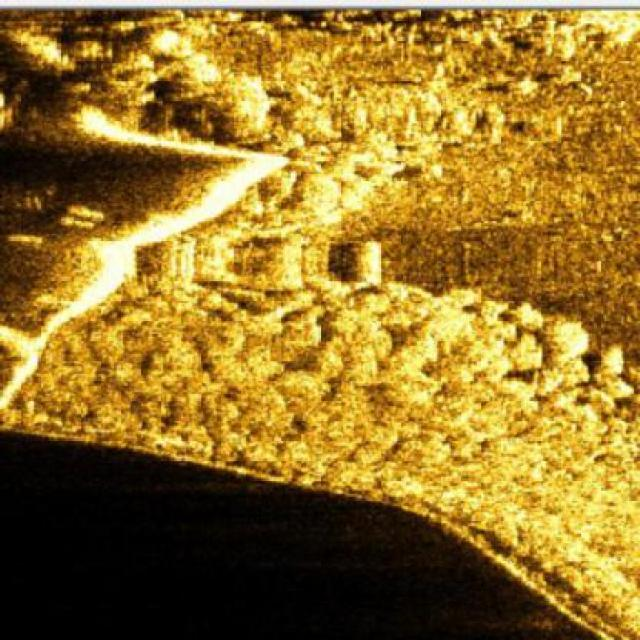bedrock group: (0, 7, 638, 638)
